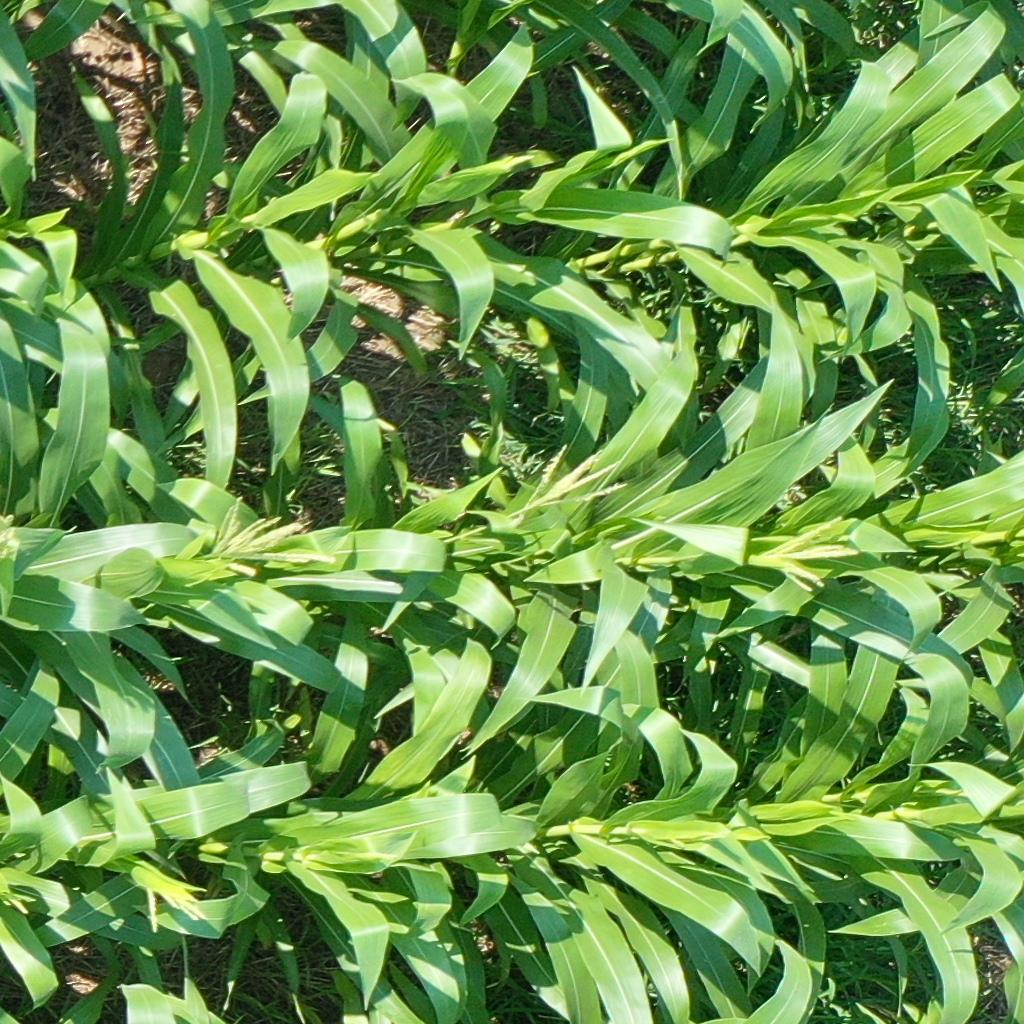Tassel: (194, 493, 344, 583), (753, 513, 862, 591), (514, 443, 629, 516), (136, 881, 211, 932), (1, 510, 23, 565)
